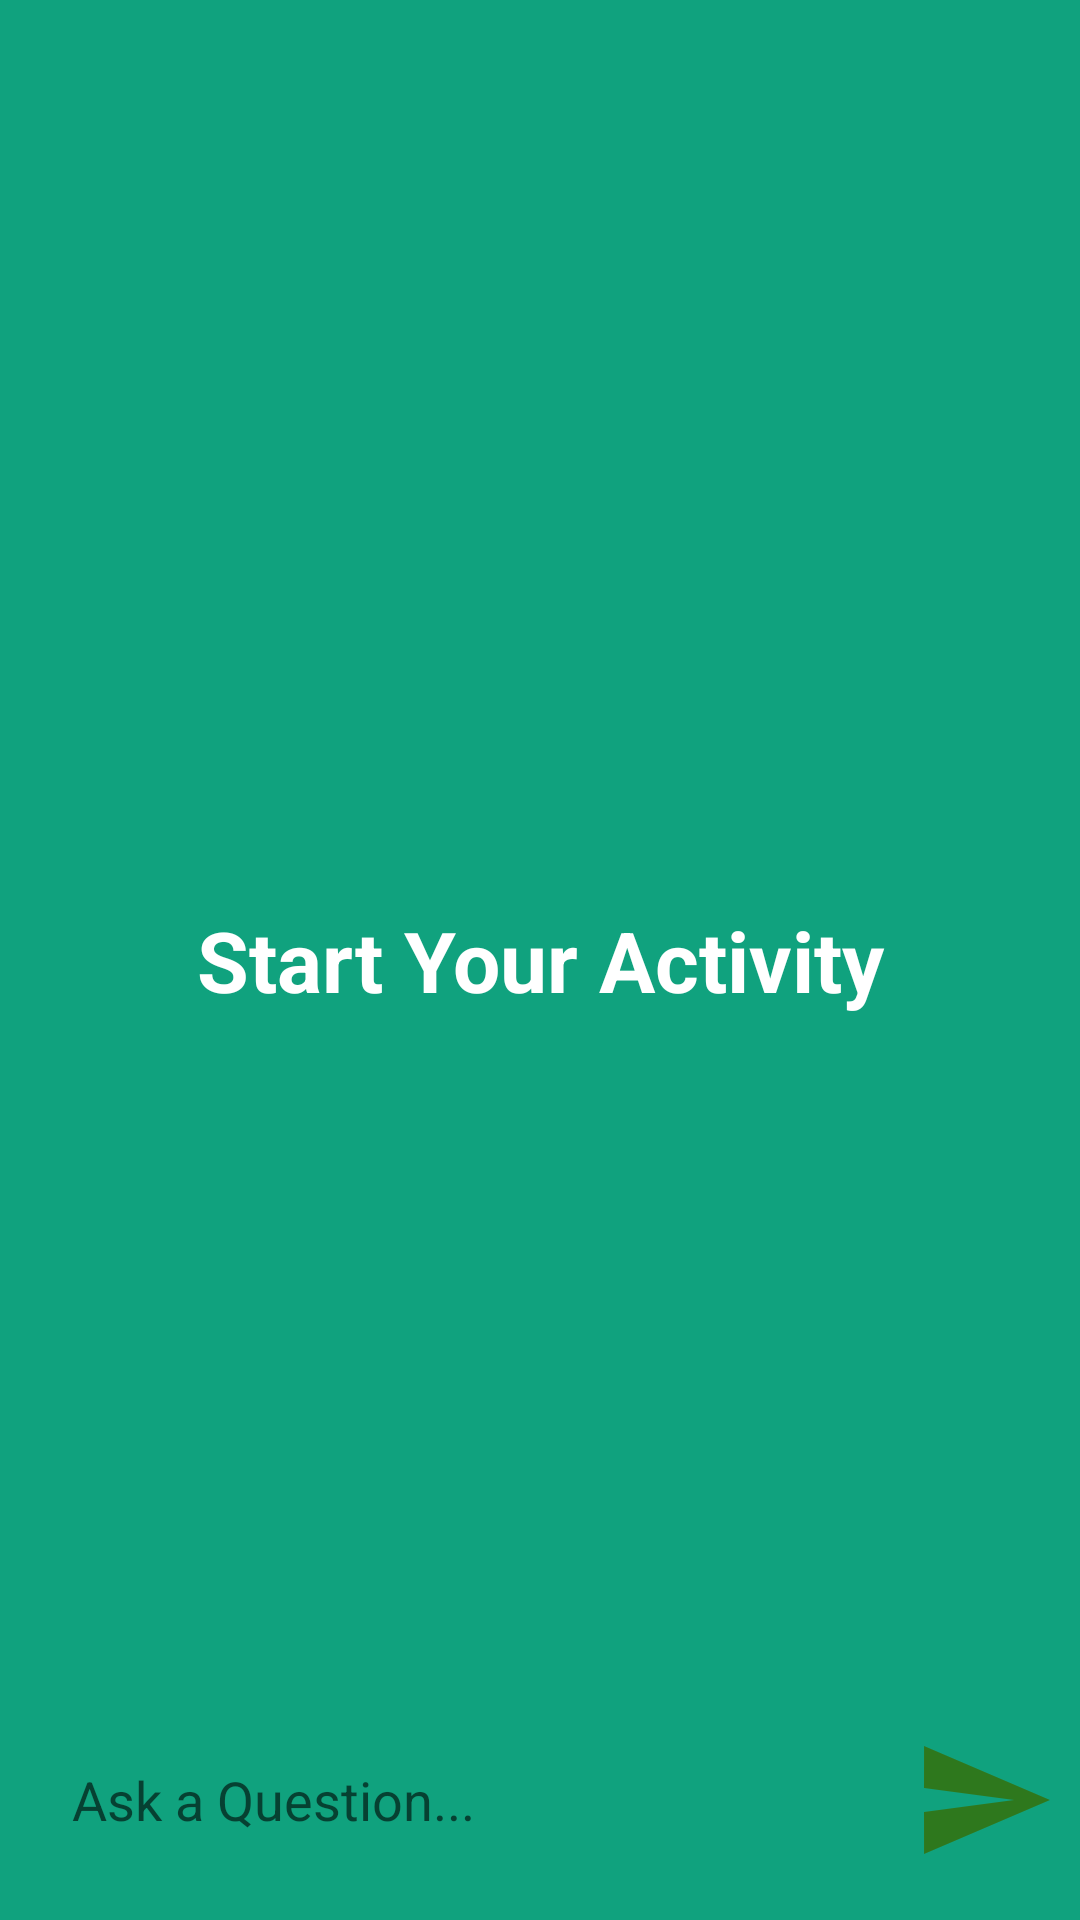

Icon click points for this 1080 x 1920 phone screenshot, format point (x, y):
send: point (986, 1800)
